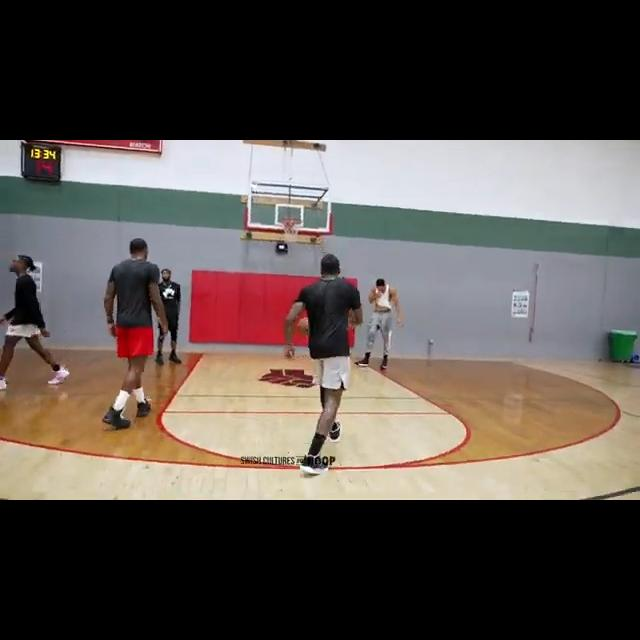basketball: (296, 316, 309, 336)
hoop: (280, 217, 301, 244)
